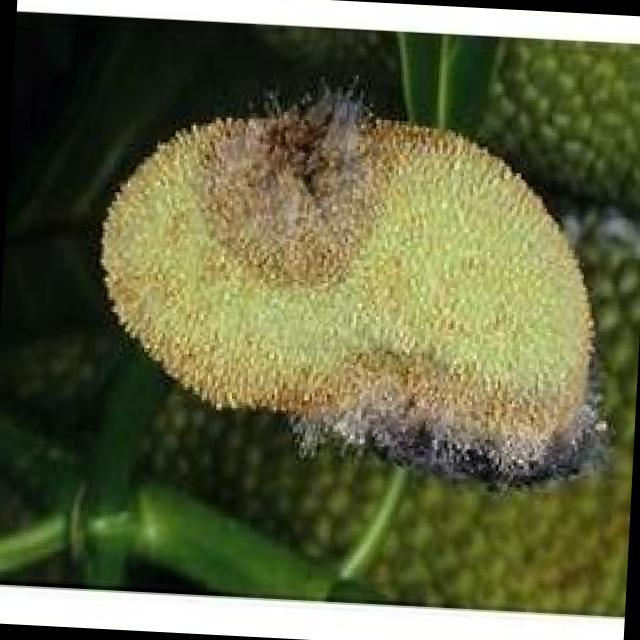Fruit: (16, 56, 460, 502), (305, 96, 636, 530)
